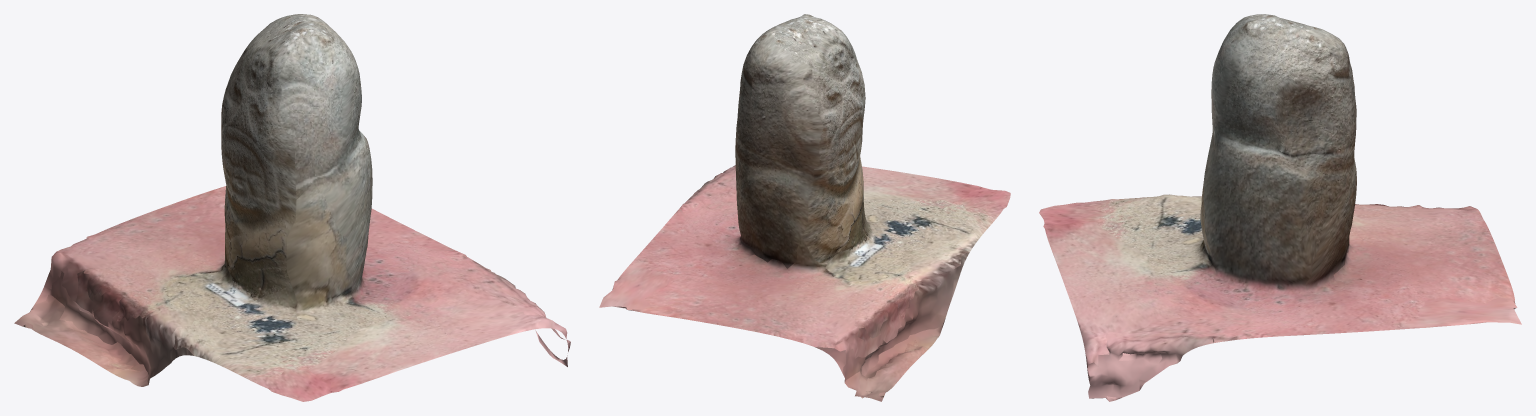
3 views of the same model, side by side, from view 1: azimuth 30°, elevation 25°; view 2: azimuth 150°, elevation 25°; view 3: azimuth 270°, elevation 25° (orthographic). The views are drawn at different scales.
Parts seen in each view (by area): view 1: Object; view 2: Object; view 3: Object.
Boxes of the visible parts, box(x1,y1,x2,y2) form: Object: box(14, 14, 570, 401); Object: box(599, 14, 1010, 401); Object: box(1039, 14, 1521, 401).
Bounding box in the file's own units: 1.41 × 1.22 × 1.68.
1 material, 1 textured.
